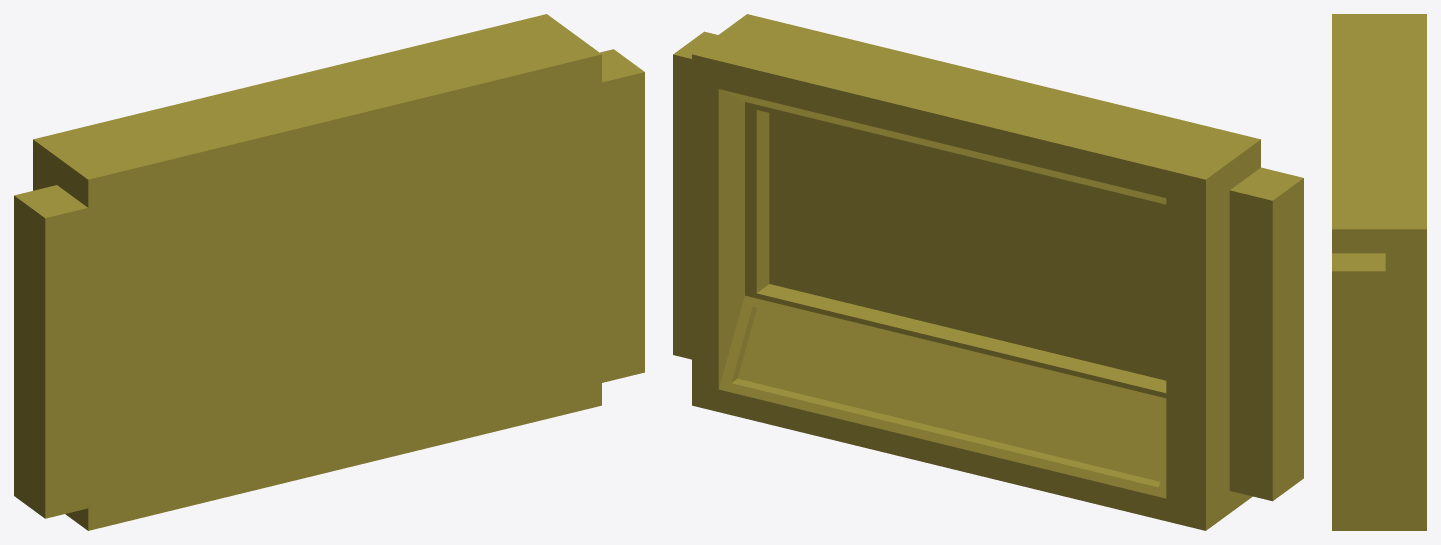
Rendered from Console.fbx.
3 views of the same model, side by side, from view 1: azimuth 30°, elevation 25°; view 2: azimuth 150°, elevation 25°; view 3: azimuth 270°, elevation 25° (orthographic). The views are drawn at different scales.
Parts seen in each view (by area): view 1: Console; view 2: Console; view 3: Console.
Part boxes in pixels (x1=…): Console: x1=14, y1=14, x2=644, y2=530; Console: x1=673, y1=14, x2=1303, y2=530; Console: x1=1332, y1=14, x2=1426, y2=530.
Size of the model in its own units: 100 by 55.97 by 15.94.
